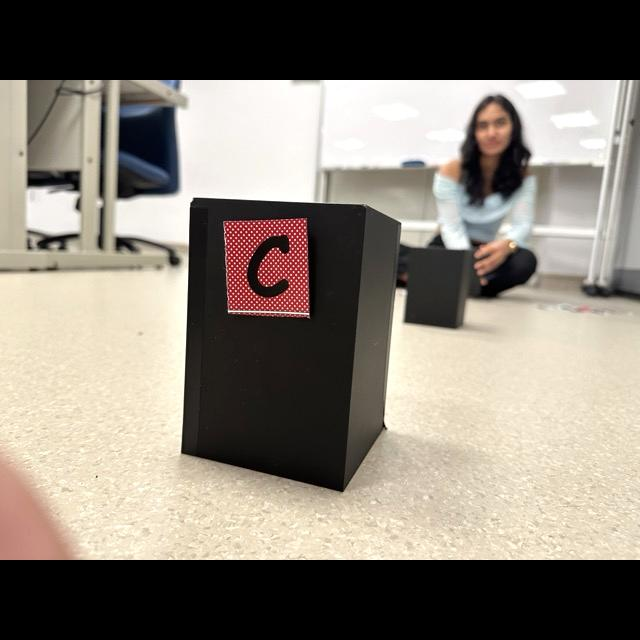C: (247, 235, 289, 297)
